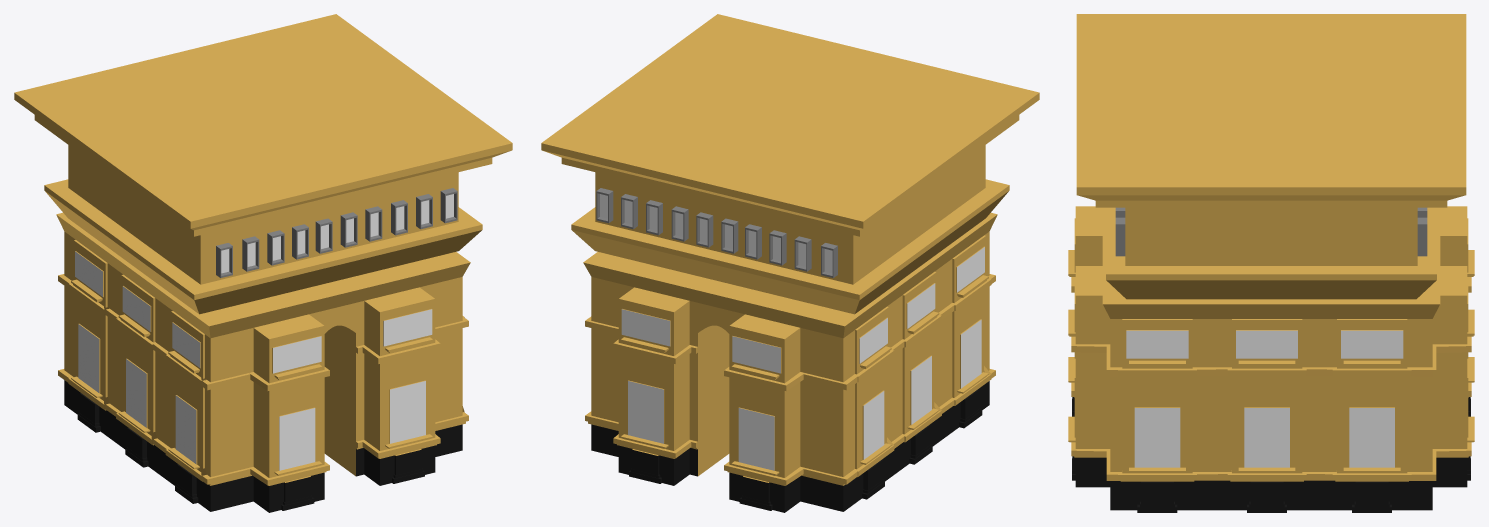
File: SIMPANG GUMUL.fbx
The picture shows the model from 3 angles, left to right: view 1: azimuth 30°, elevation 25°; view 2: azimuth 150°, elevation 25°; view 3: azimuth 270°, elevation 25°; orthographic projection. The views are drawn at different scales.
Visible parts, largest first — view 1: Cube, Cube.004, Cube.001; view 2: Cube, Cube.004, Cube.001; view 3: Cube, Cube.004, Cube.001.
Part boxes in pixels (left/top/right/bottom): Cube: left=14, top=14, right=512, bottom=512; Cube.004: left=68, top=240, right=464, bottom=503; Cube.001: left=216, top=188, right=457, bottom=277; Cube: left=541, top=14, right=1039, bottom=512; Cube.004: left=853, top=235, right=991, bottom=499; Cube.001: left=596, top=188, right=837, bottom=277; Cube: left=1068, top=14, right=1474, bottom=510; Cube.004: left=1118, top=319, right=1411, bottom=512; Cube.001: left=1115, top=207, right=1427, bottom=256.
Bounding box in the file's own units: 899 × 826 × 890.
